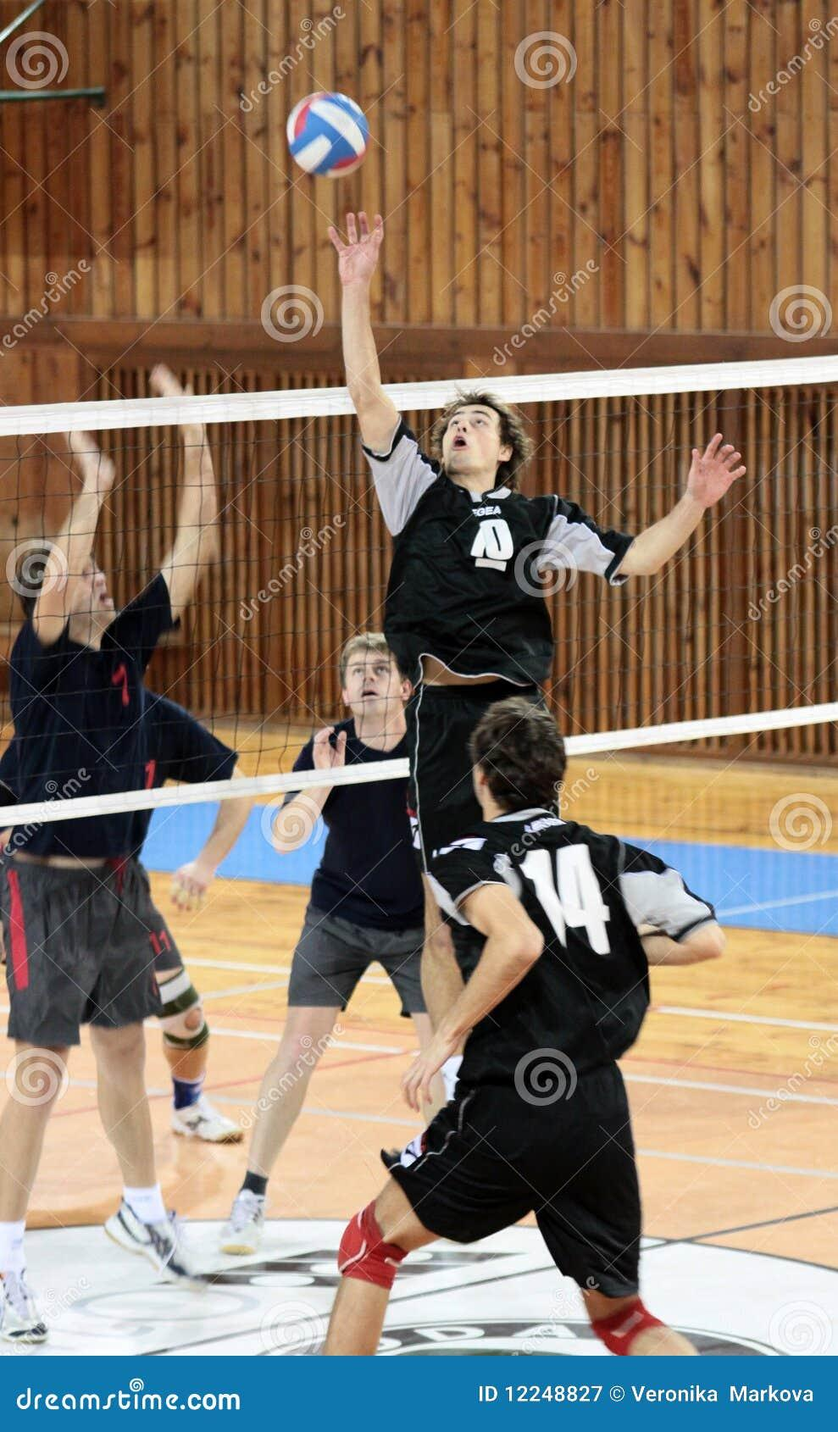ballon_volley: (286, 85, 373, 182)
